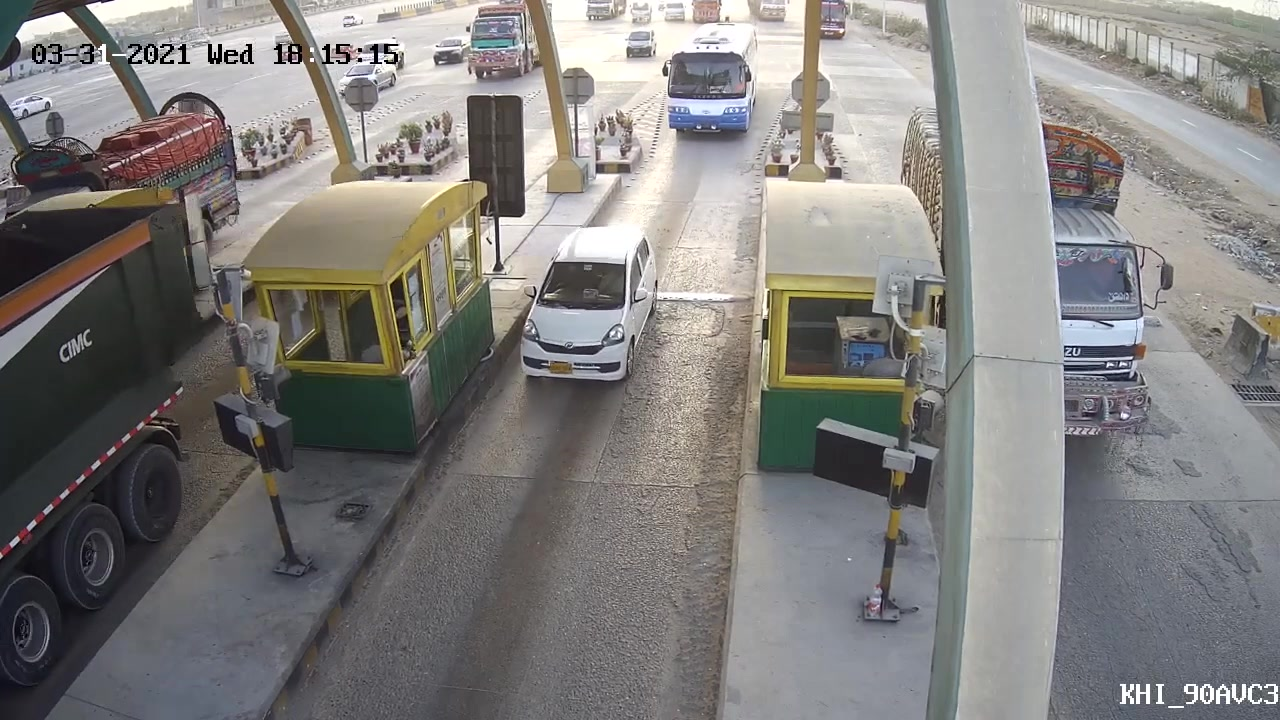F1: (516, 230, 660, 396)
